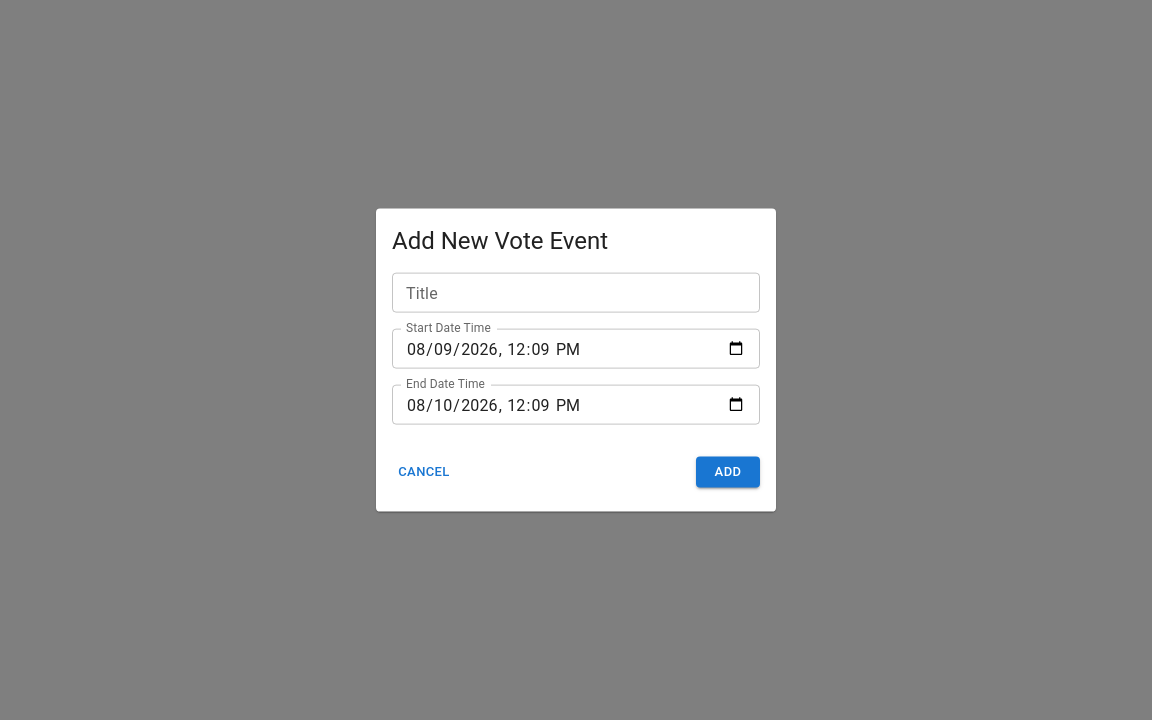
Test: <AddVoteEventModal /> › should not submit form with empty title
This screenshot has width=1152, height=720.
# Submit the form
Click the button with id "add-vote-event-button". click: (728, 473)
box: [696,457,760,488]
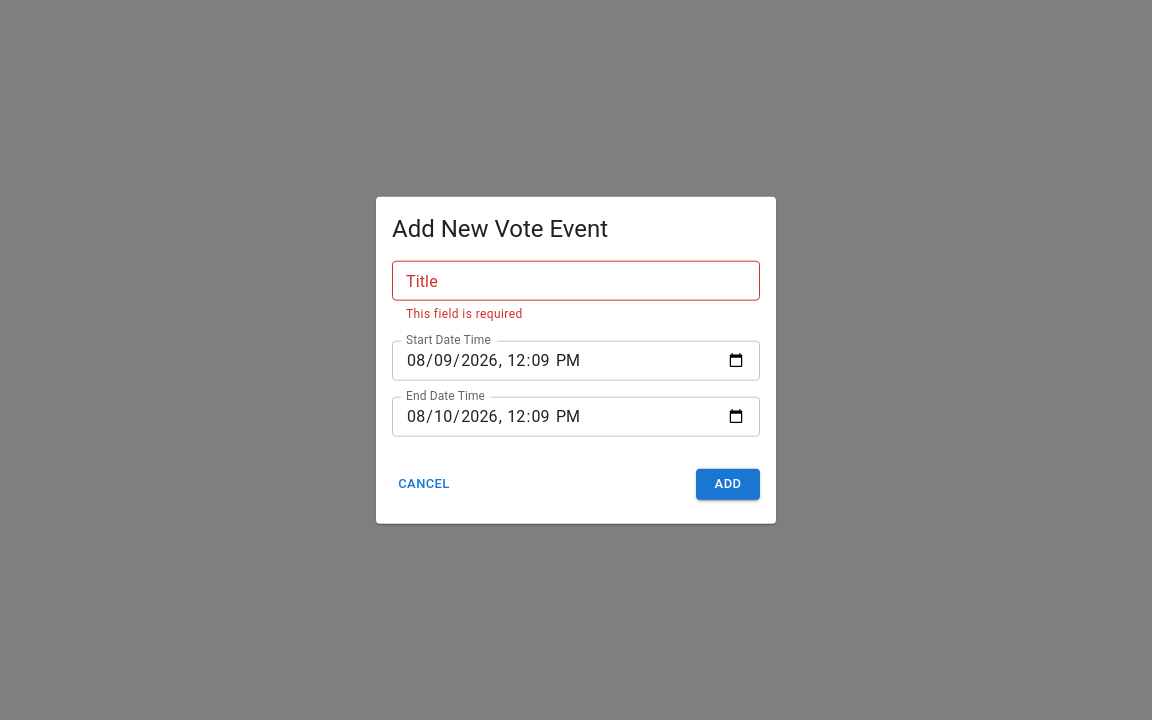
Expected: the text "This field is required" is shown, [406,307,523,321]
